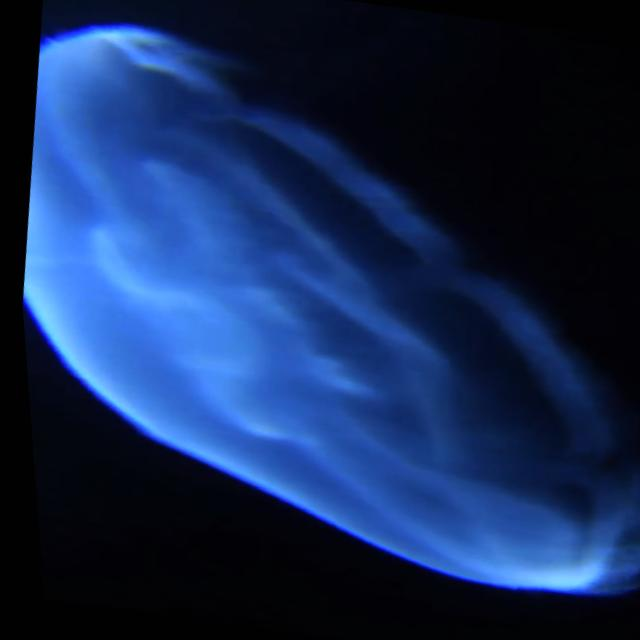Moon-jellyfish: (17, 22, 640, 597)
